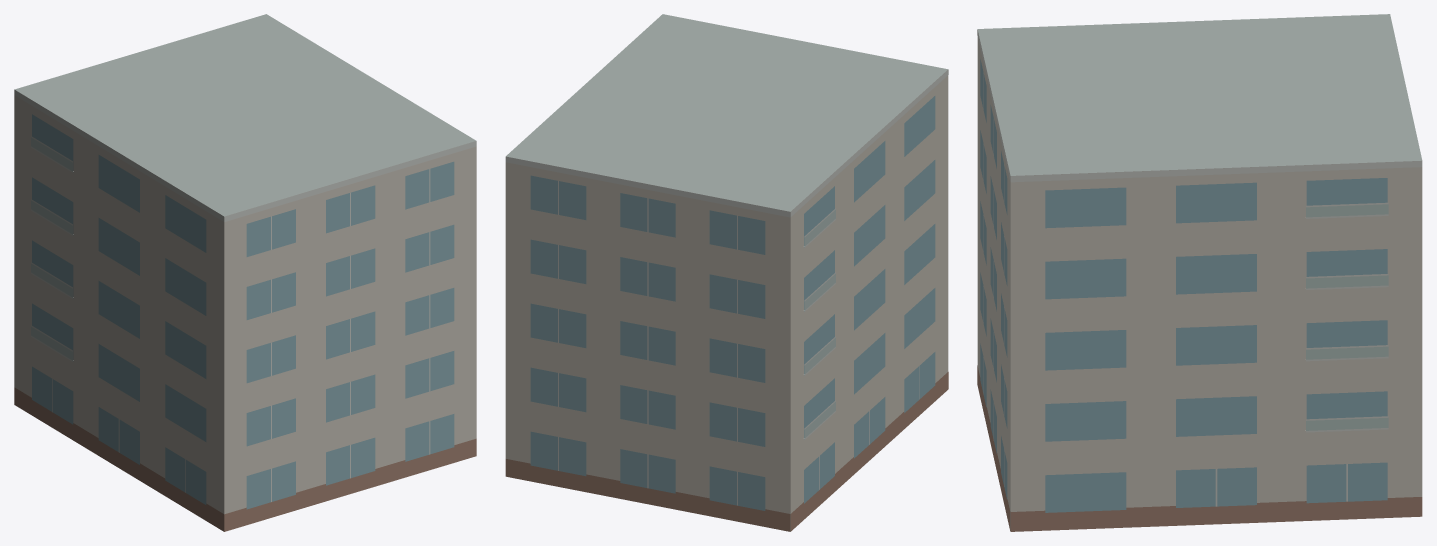
Rendered from survey-upis-32663592.glb.
The picture shows the model from 3 angles, left to right: view 1: azimuth 30°, elevation 25°; view 2: azimuth 150°, elevation 25°; view 3: azimuth 270°, elevation 25°; orthographic projection. The views are drawn at different scales.
Parts seen in each view (by area): view 1: survey-upis-32663592.tmp; view 2: survey-upis-32663592.tmp; view 3: survey-upis-32663592.tmp.
Boxes of the visible parts, box(x1,y1,x2,y2) form: survey-upis-32663592.tmp: box(14, 14, 476, 531); survey-upis-32663592.tmp: box(505, 14, 948, 531); survey-upis-32663592.tmp: box(977, 14, 1422, 531).
Size of the model in its own units: 13.38 by 13.7 by 15.53.
